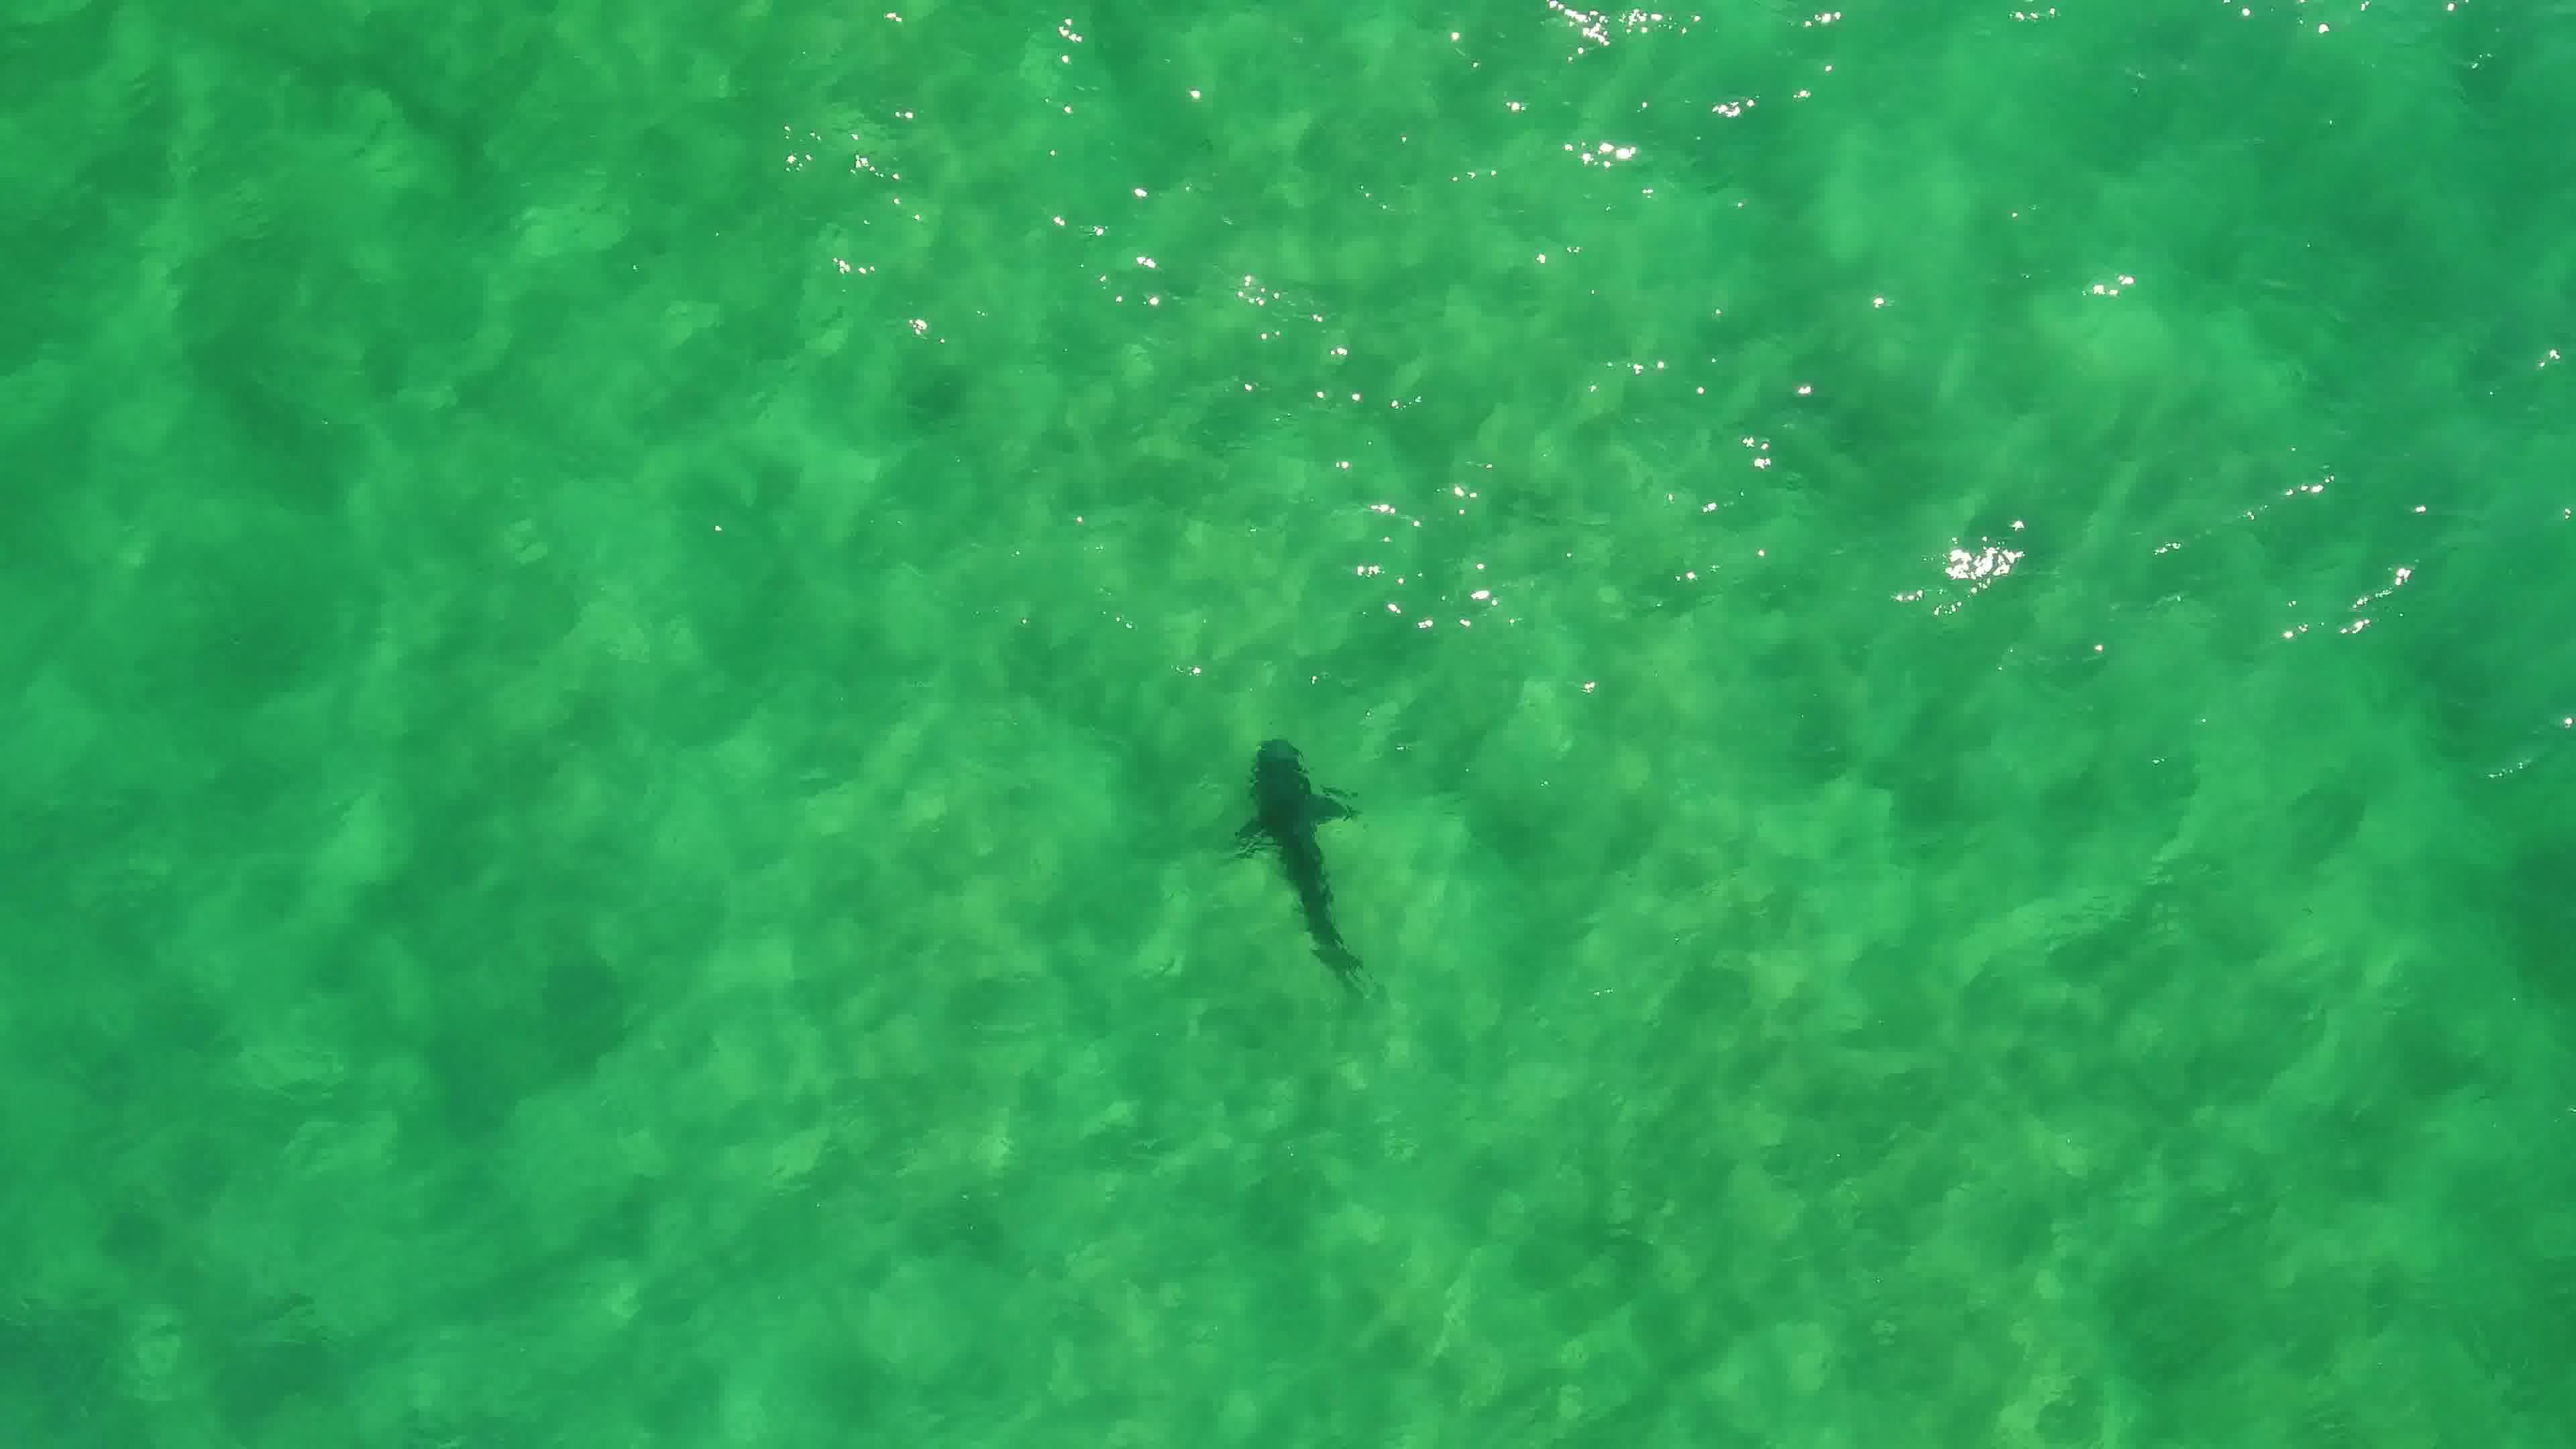shark: (1210, 732, 1380, 1000)
